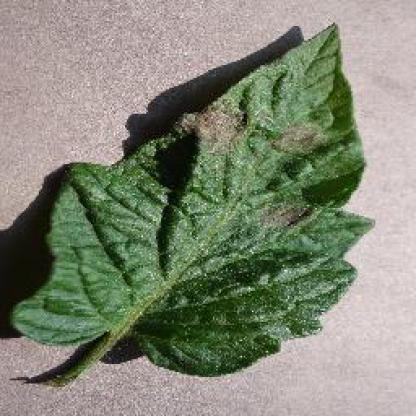bad leaf: (17, 41, 362, 389)
